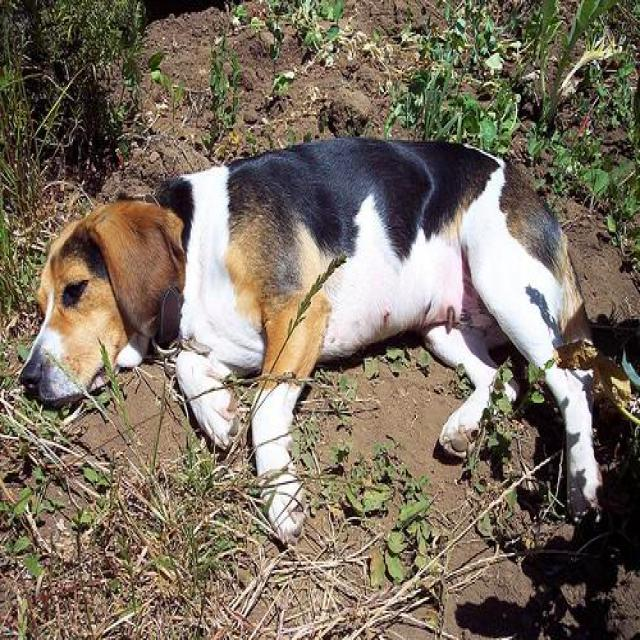beagle: (19, 136, 607, 546)
